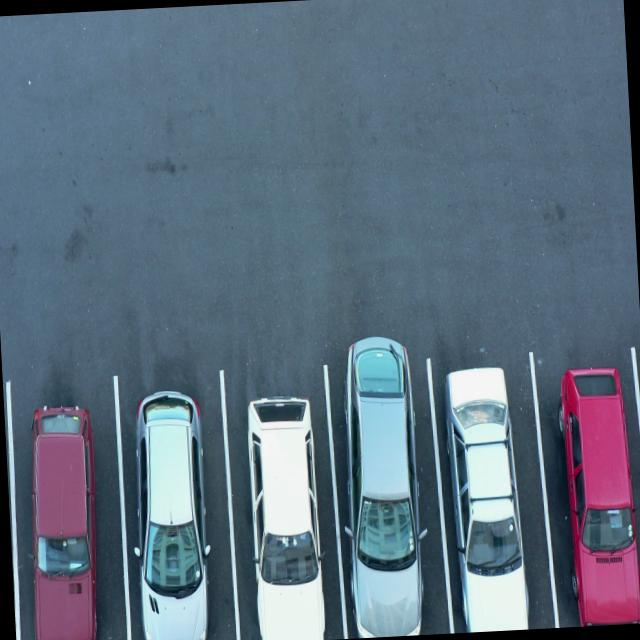car: (430, 350, 556, 633), (325, 356, 449, 638), (114, 364, 240, 640), (221, 363, 346, 640), (5, 374, 132, 640), (533, 345, 640, 628)
